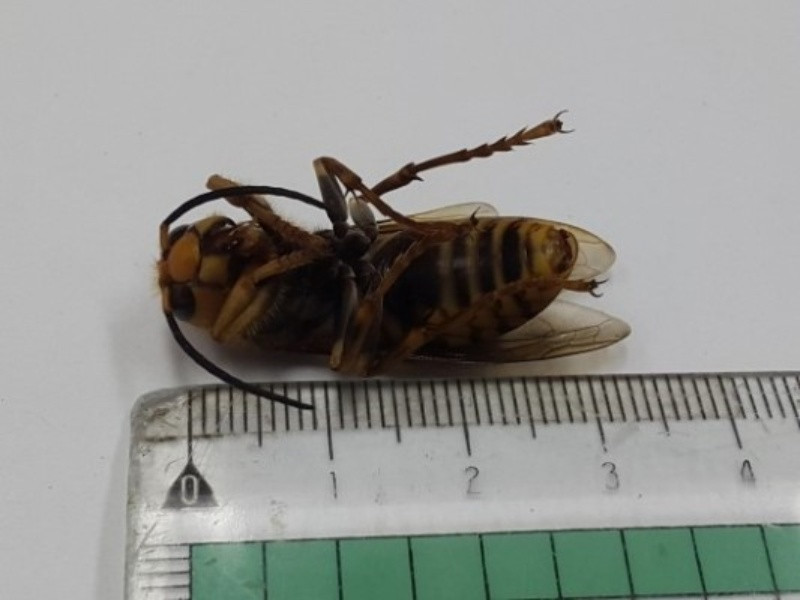asian_giant_hornet: (153, 194, 582, 378)
